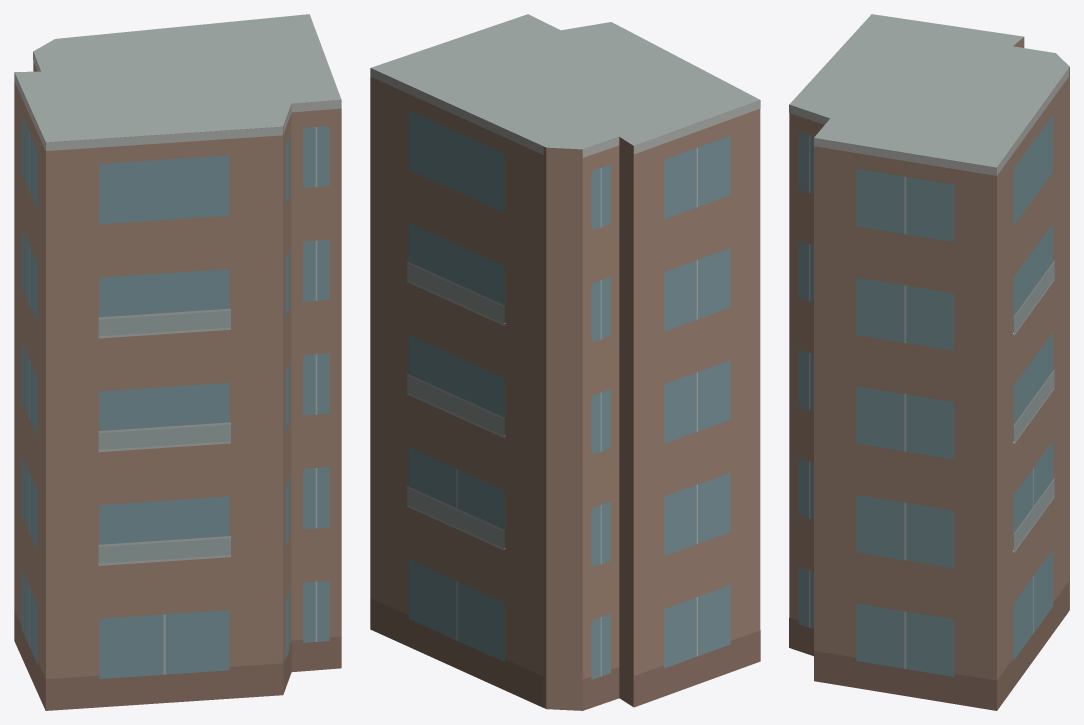
The model's file is survey-upis-32461071.glb.
The picture shows the model from 3 angles, left to right: view 1: azimuth 30°, elevation 25°; view 2: azimuth 150°, elevation 25°; view 3: azimuth 270°, elevation 25°; orthographic projection. The views are drawn at different scales.
Visible parts, largest first — view 1: survey-upis-32461071.tmp; view 2: survey-upis-32461071.tmp; view 3: survey-upis-32461071.tmp.
Part boxes in pixels (box(x1,y1,x2,y2)): survey-upis-32461071.tmp: box(14, 14, 341, 710); survey-upis-32461071.tmp: box(370, 14, 760, 710); survey-upis-32461071.tmp: box(789, 14, 1069, 710).
Bounding box in the file's own units: 9.59 × 15.8 × 7.4.
